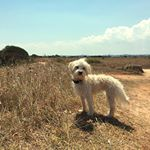puppy: (64, 56, 133, 125)
